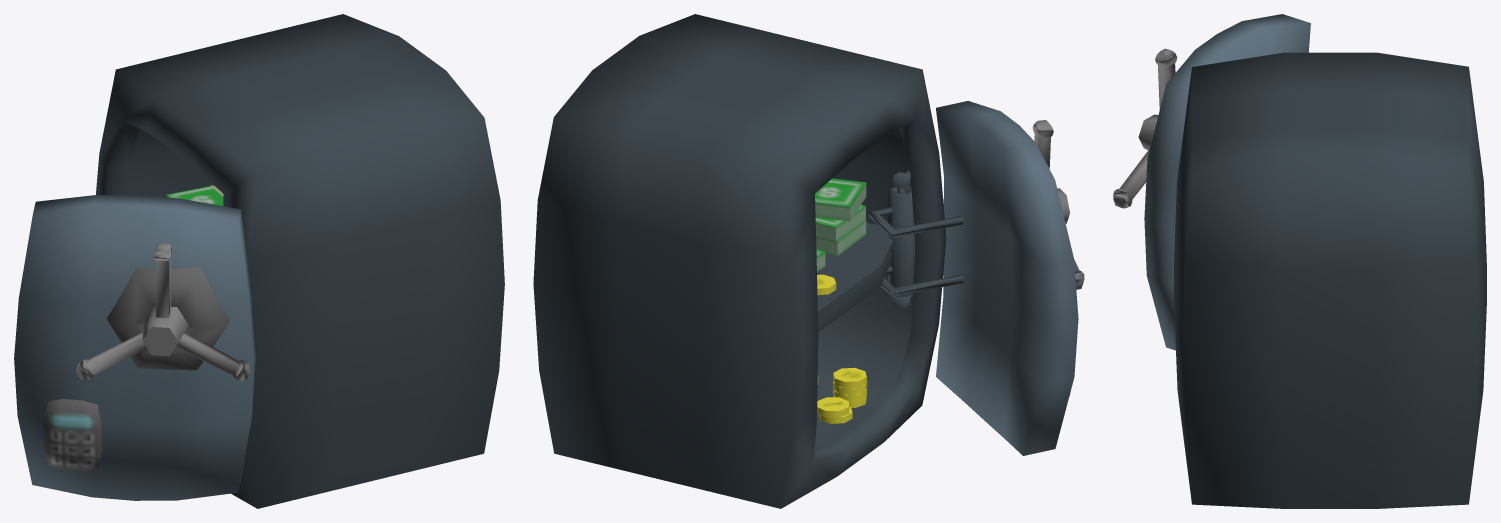
Rendered from ket-xanh-xam.glb.
3 renders of one model, left to right at view 1: azimuth 30°, elevation 25°; view 2: azimuth 150°, elevation 25°; view 3: azimuth 270°, elevation 25°, orthographic. The views are drawn at different scales.
Parts seen in each view (by area): view 1: ket-xanh-xam; view 2: ket-xanh-xam; view 3: ket-xanh-xam.
Part boxes in pixels (x1,y1,x2,y2): ket-xanh-xam: (14, 14, 504, 508); ket-xanh-xam: (533, 14, 1084, 508); ket-xanh-xam: (1113, 14, 1486, 508).
Size of the model in its own units: 3.03 by 2.2 by 2.2.
Materials: 1 (1 with a texture image).
